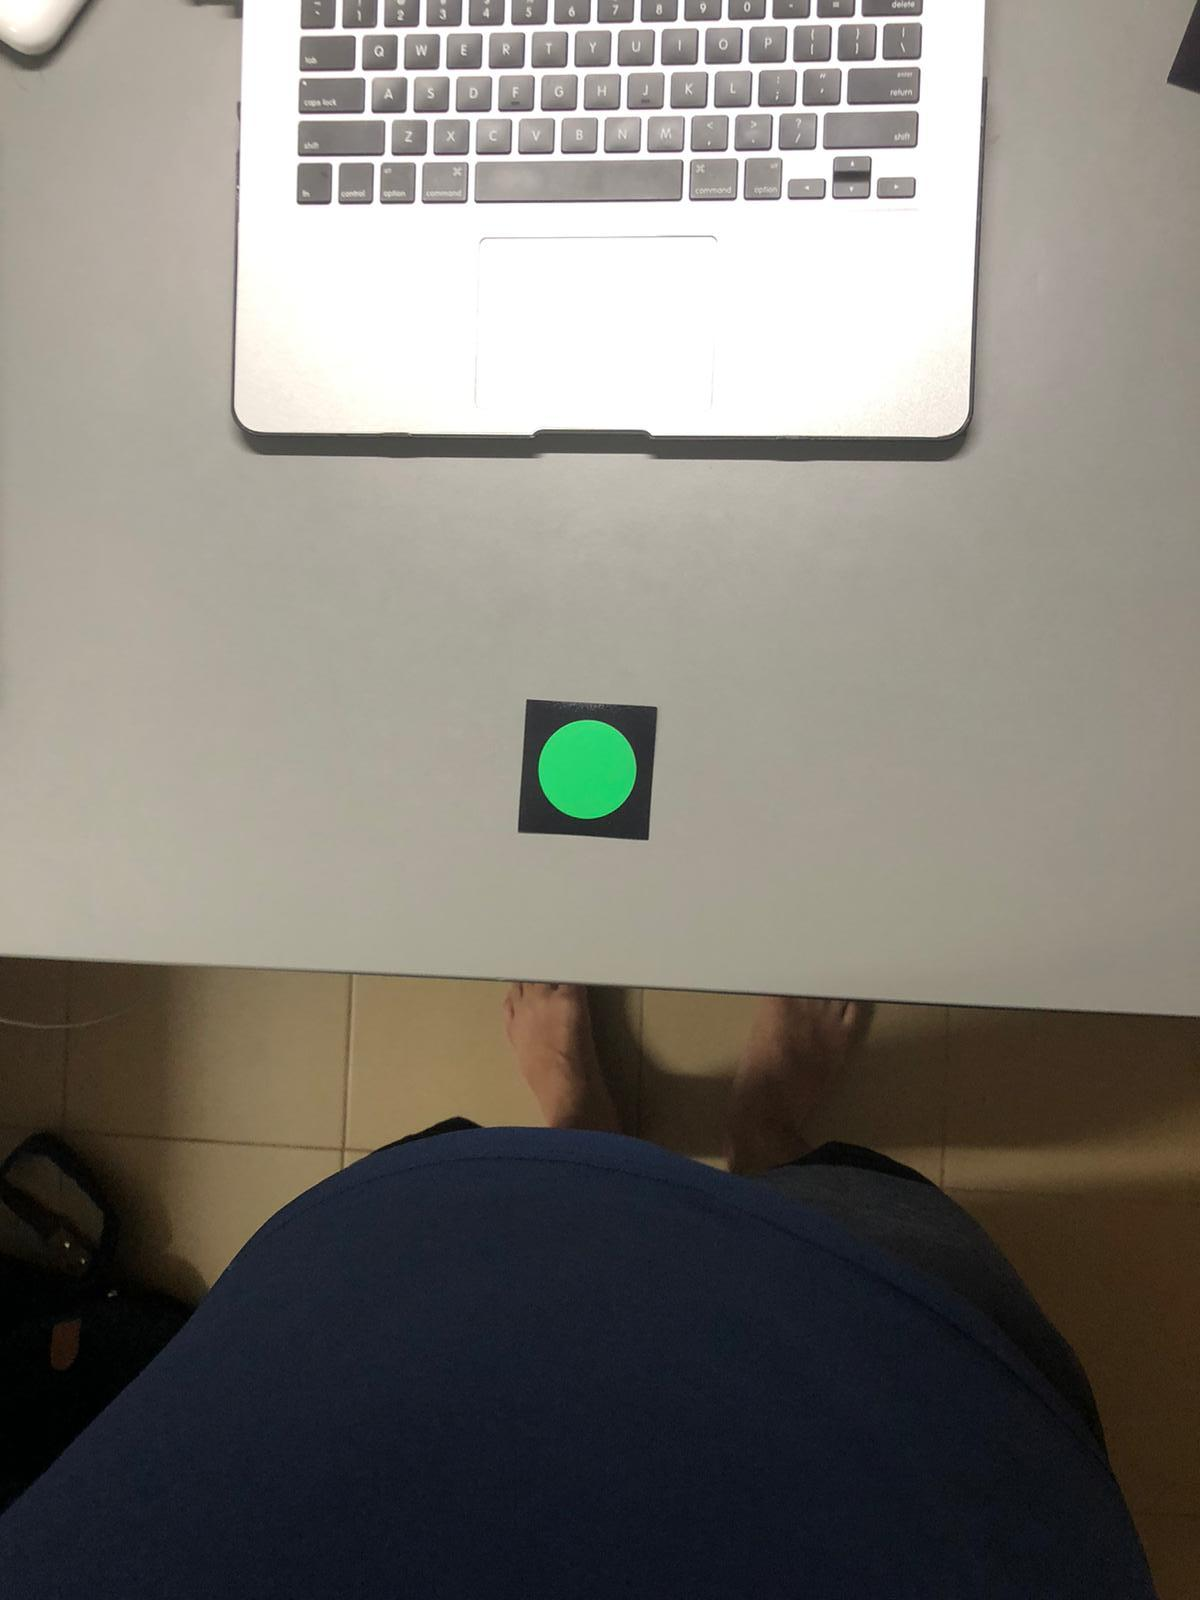Circle: (516, 706, 649, 833)
